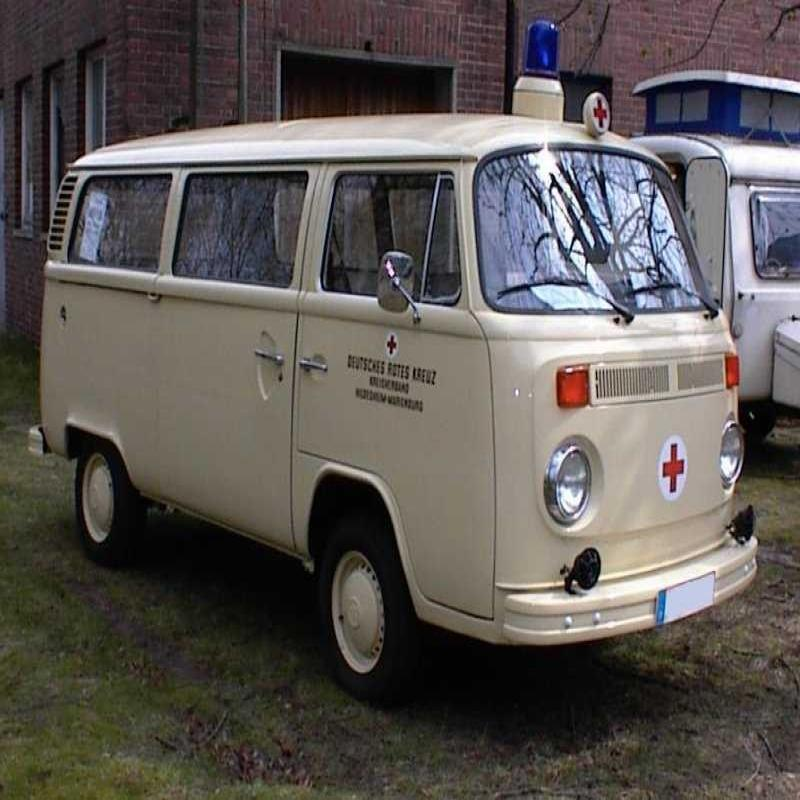AmbulanceSiren: (502, 12, 570, 91)
